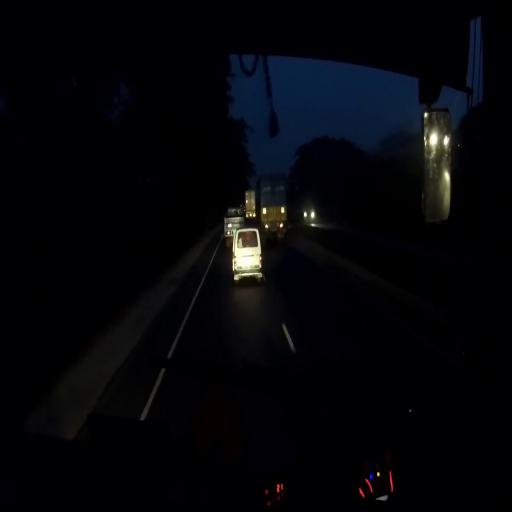truck: (261, 177, 291, 246), (224, 208, 235, 248)
van: (233, 229, 263, 284)
